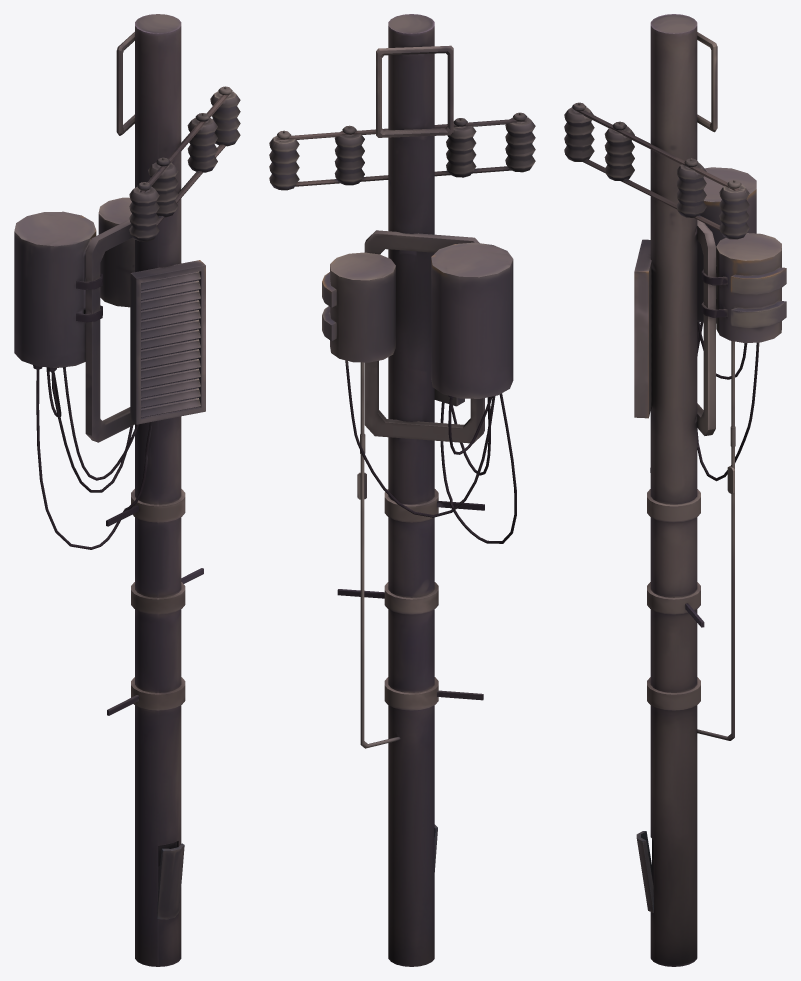
Rendered from jenbotde.fbx.
3 renders of one model, left to right at view 1: azimuth 30°, elevation 25°; view 2: azimuth 150°, elevation 25°; view 3: azimuth 270°, elevation 25°, orthographic.
Visible parts, largest first — view 1: Object001; view 2: Object001; view 3: Object001.
Part boxes in pixels (bbox=[...]): Object001: bbox=[14, 14, 240, 966]; Object001: bbox=[269, 14, 535, 966]; Object001: bbox=[564, 14, 786, 966].
Bounding box in the file's own units: 77.94 × 305 × 66.05.
